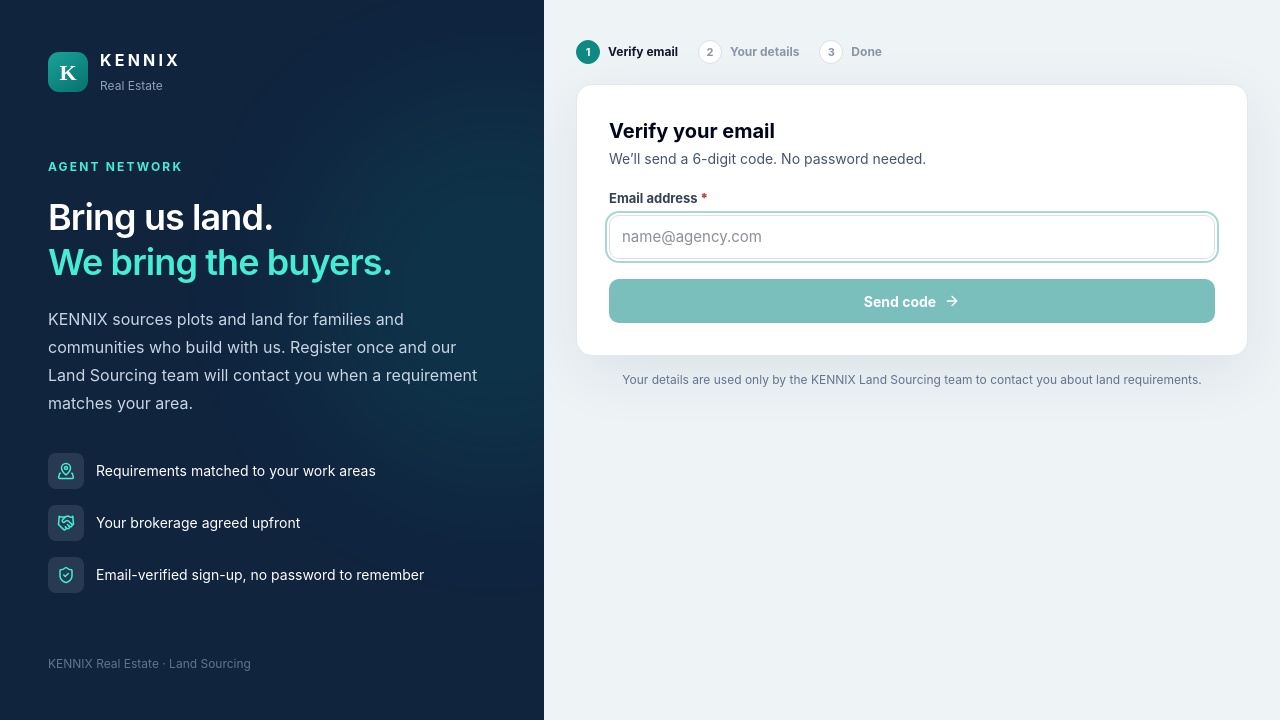
Scenario: agent registration › explains a wrong code
Type "a@b.co" into the field labelled "Email address *" at (912, 237), box [609,214,1215,259]
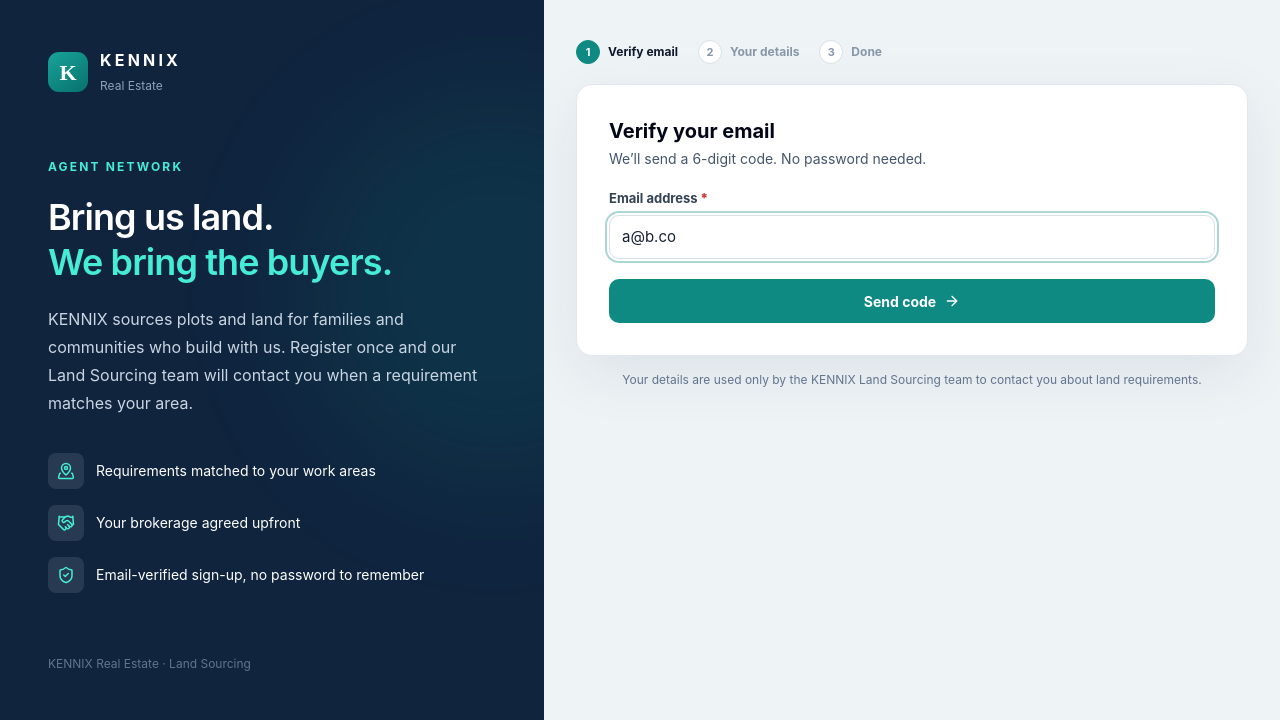
Click the button "Send code" at (912, 301), box [609,279,1215,323]
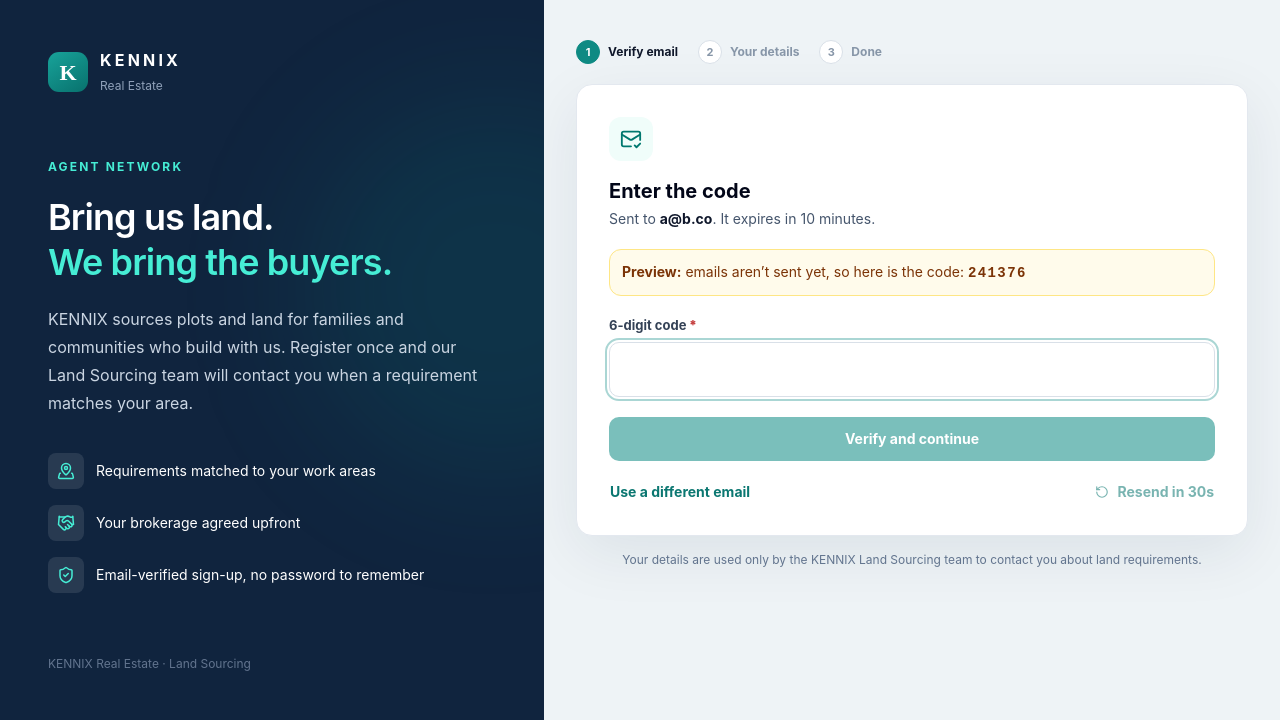
Type "123456" into the field labelled "6-digit code *" at (912, 369), box [609,342,1215,396]
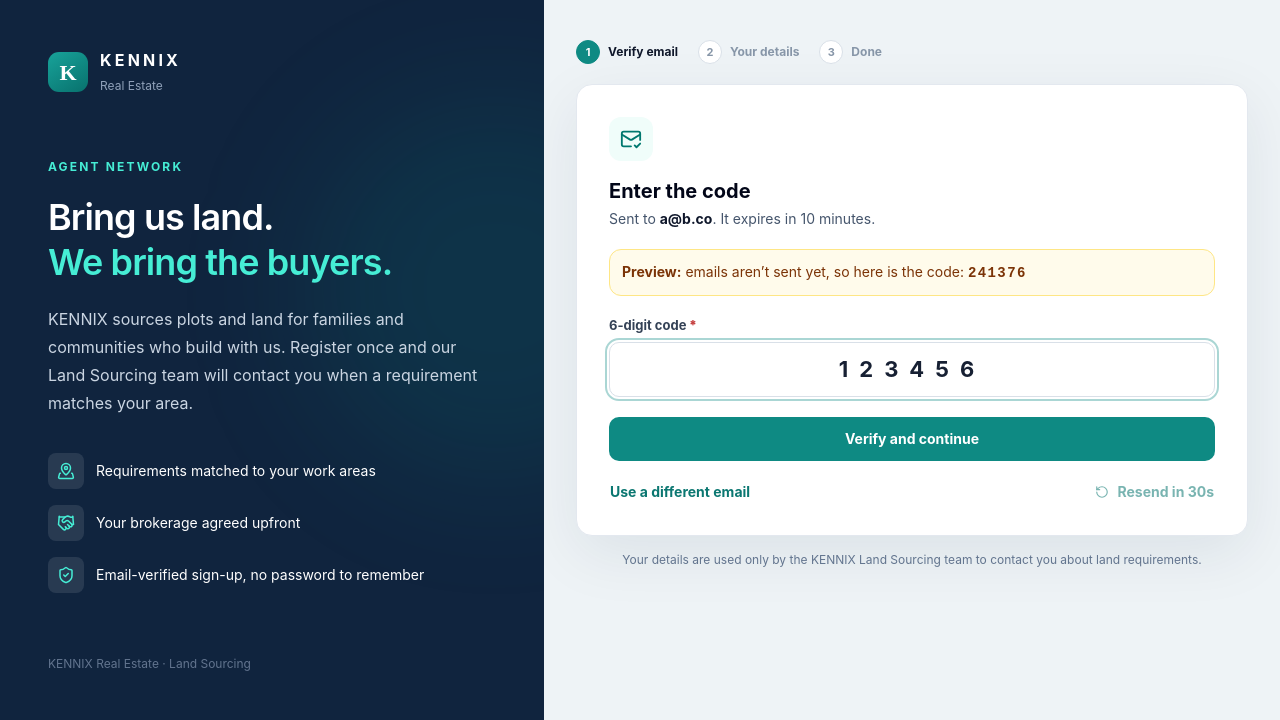
Click the button "Verify and continue" at (912, 438), box [609,416,1215,460]
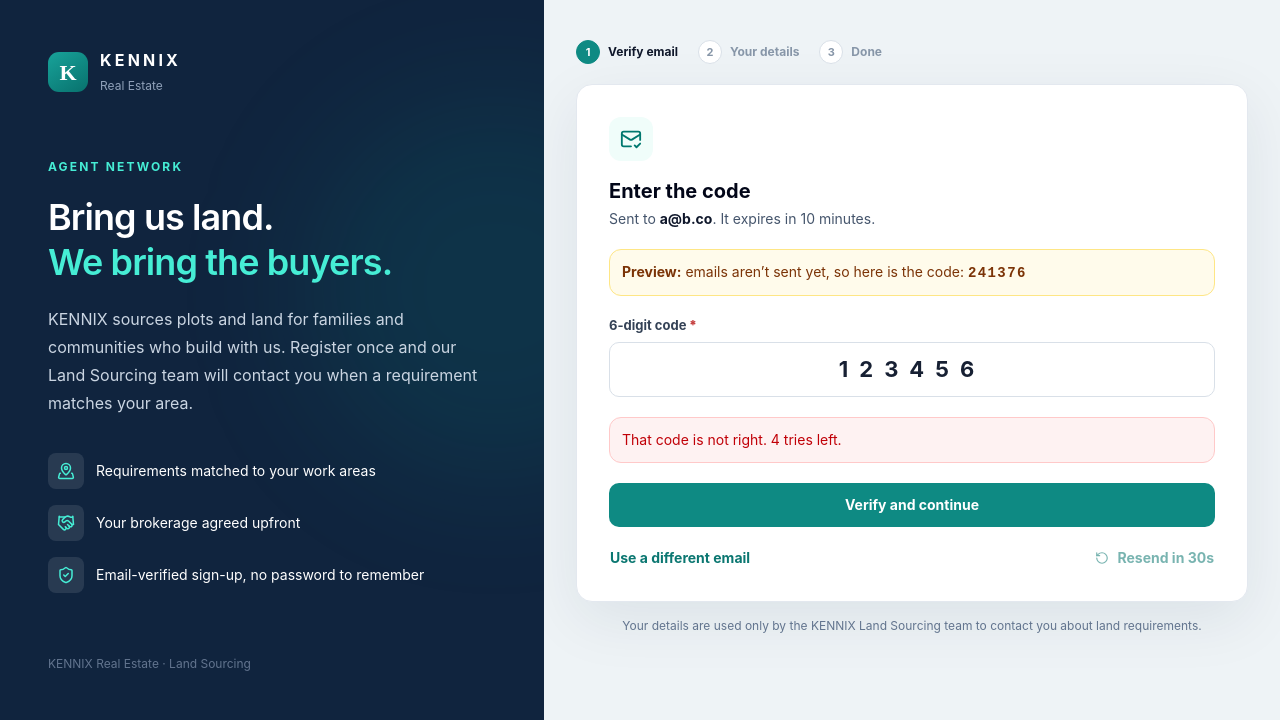
Now the text "That code is not right. 4 tries left." is shown, box [609,416,1215,462]
